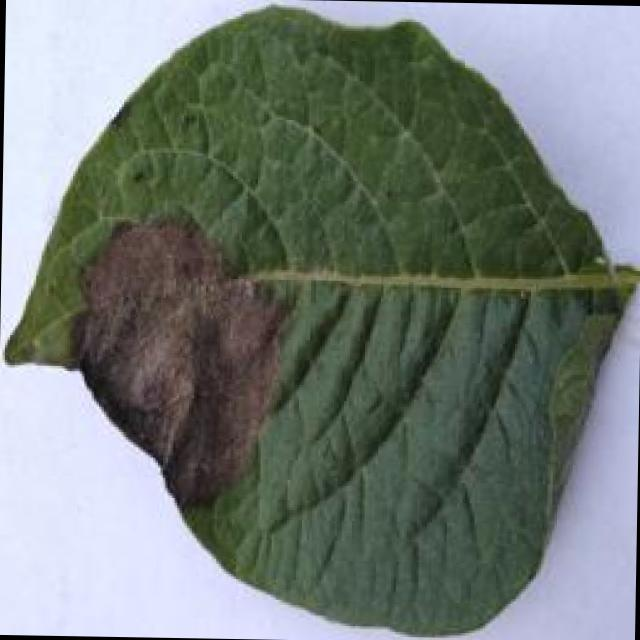Potato_Late_Blight: (0, 1, 632, 636)
